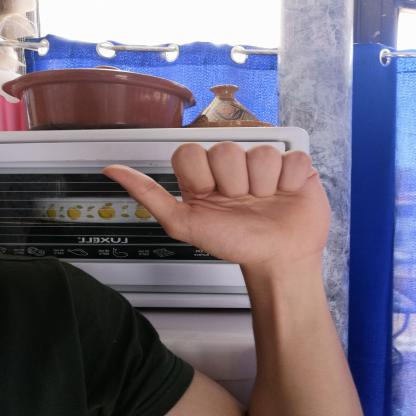DAD: (86, 131, 340, 278)
